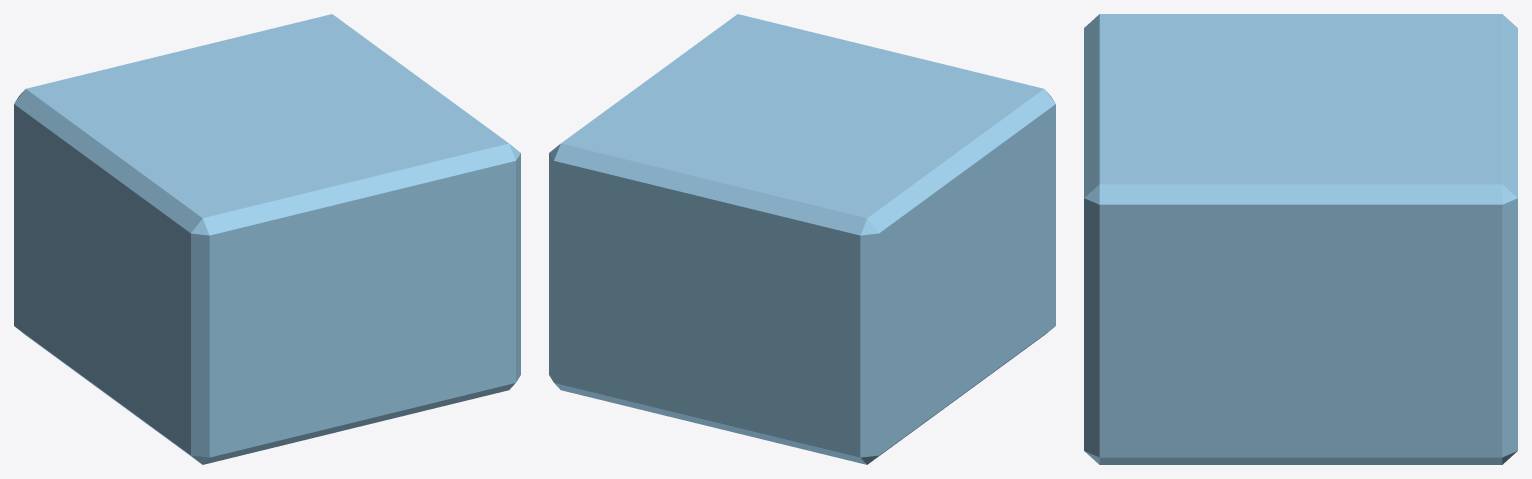
Rendered from small_payload.dae.
3 views of the same model, side by side, from view 1: azimuth 30°, elevation 25°; view 2: azimuth 150°, elevation 25°; view 3: azimuth 270°, elevation 25° (orthographic). The views are drawn at different scales.
Parts seen in each view (by area): view 1: ID2; view 2: ID2; view 3: ID2.
Boxes of the visible parts, box(x1,y1,x2,y2) form: ID2: box(14, 14, 520, 464); ID2: box(549, 14, 1055, 464); ID2: box(1084, 14, 1517, 464).
Bounding box in the file's own units: 0.14 × 0.14 × 0.1.
